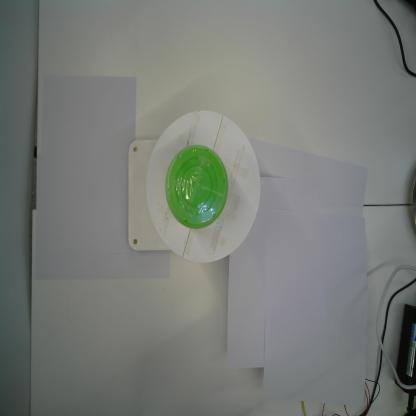Instant Drink: (164, 142, 230, 232)
